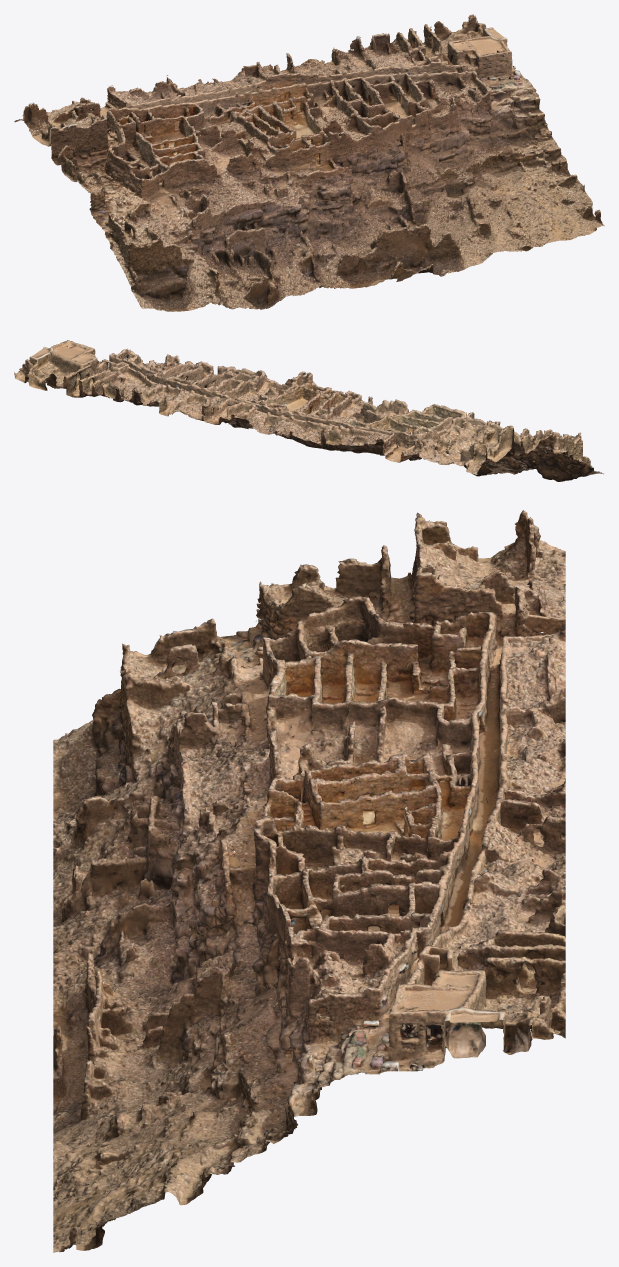
3 renders of one model, top to bottom at view 1: azimuth 30°, elevation 25°; view 2: azimuth 150°, elevation 25°; view 3: azimuth 270°, elevation 25°, orthographic. The views are drawn at different scales.
Visible parts, largest first — view 1: MRT_001_M3_MaisonFoundateurs; view 2: MRT_001_M3_MaisonFoundateurs; view 3: MRT_001_M3_MaisonFoundateurs.
Boxes of the visible parts, x1,y1,x2,y2 form: MRT_001_M3_MaisonFoundateurs: (14, 14, 604, 311); MRT_001_M3_MaisonFoundateurs: (14, 340, 604, 481); MRT_001_M3_MaisonFoundateurs: (53, 510, 565, 1252).
Size of the model in its own units: 80.08 by 26.19 by 38.37.
Materials: 1 (1 with a texture image).
